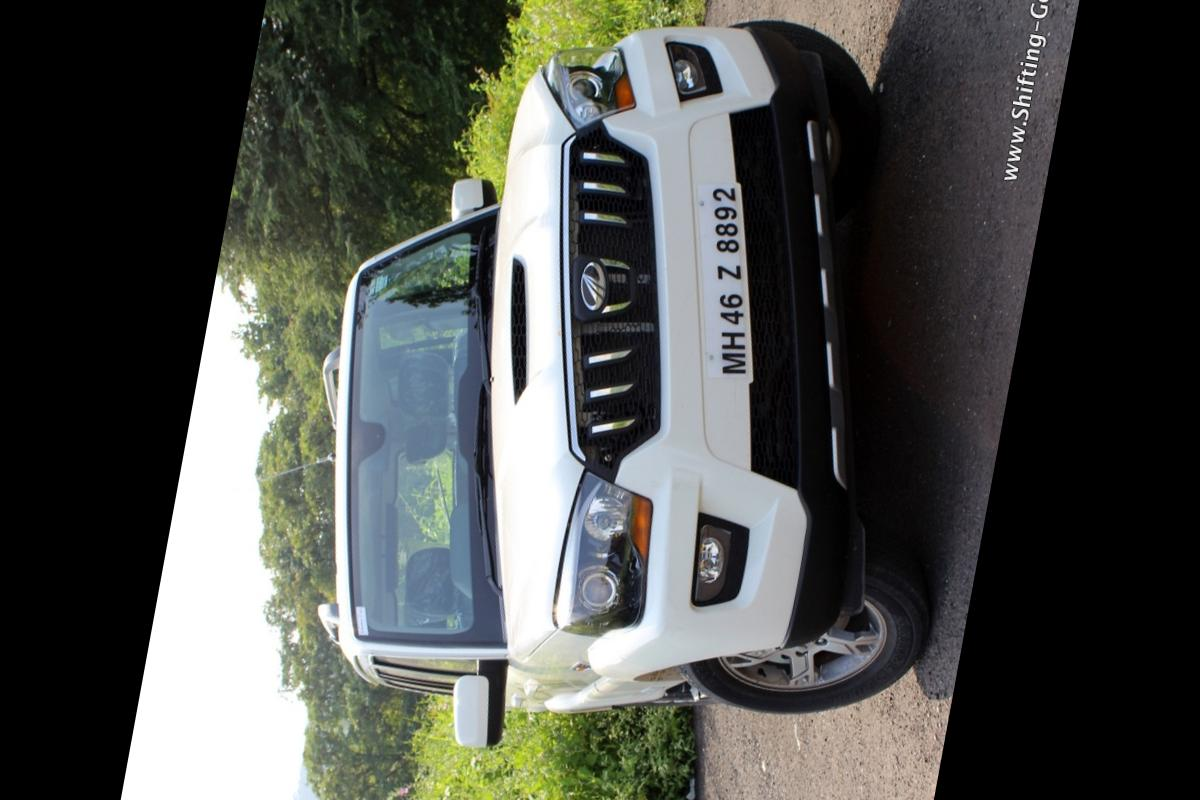plate: (662, 129, 779, 427)
